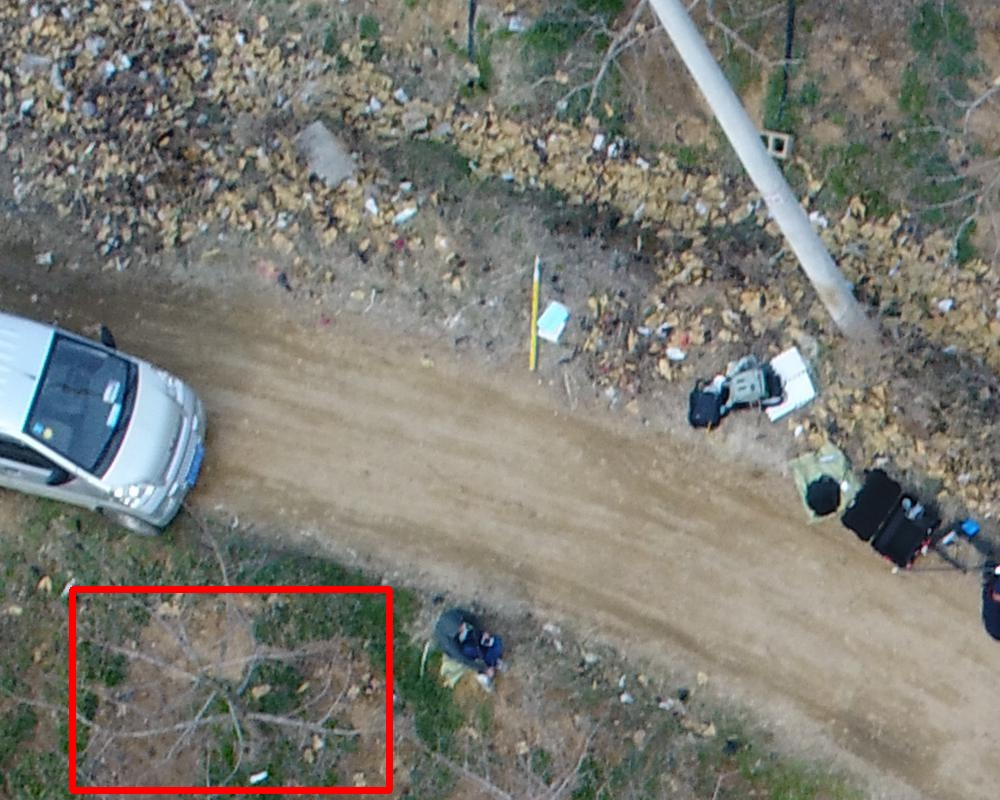apple: (72, 589, 389, 790)
